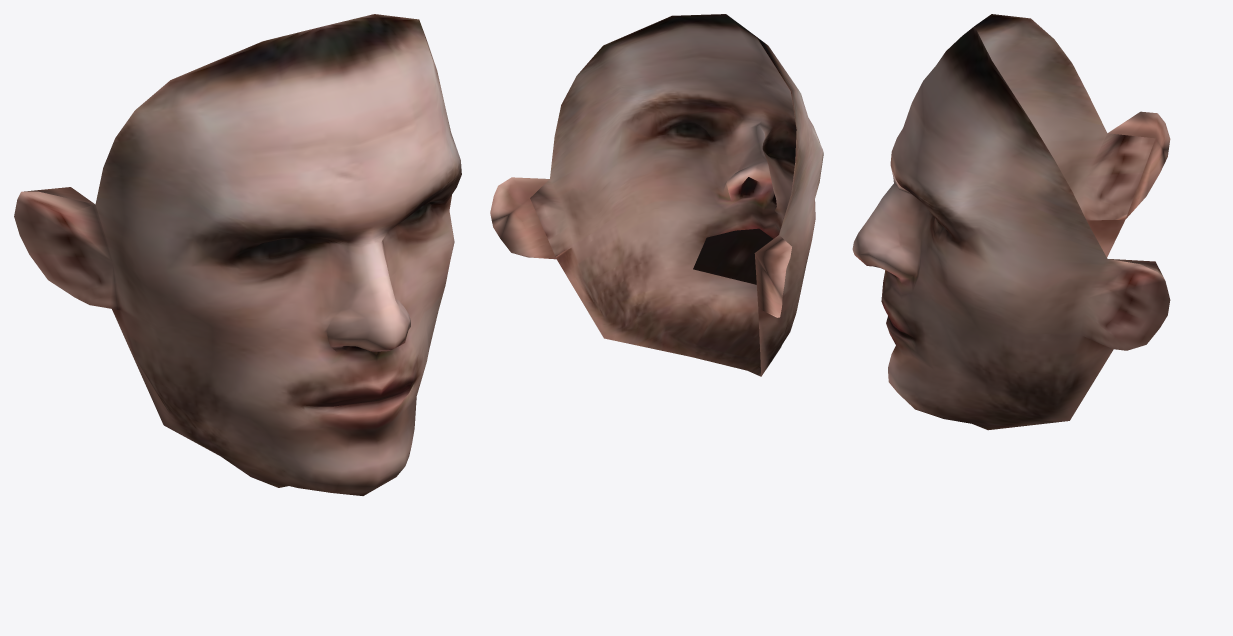
The model's file is eng-rice.glb.
3 views of the same model, side by side, from view 1: azimuth 30°, elevation 25°; view 2: azimuth 150°, elevation 25°; view 3: azimuth 270°, elevation 25° (orthographic). The views are drawn at different scales.
Visible parts, largest first — view 1: eng-rice; view 2: eng-rice; view 3: eng-rice.
Boxes of the visible parts, x1,y1,x2,y2 form: eng-rice: (14, 14, 461, 495); eng-rice: (490, 14, 823, 376); eng-rice: (852, 14, 1170, 430).
Bounding box in the file's own units: 0.1722 × 0.2956 × 0.1651.
1 material, 1 textured.
